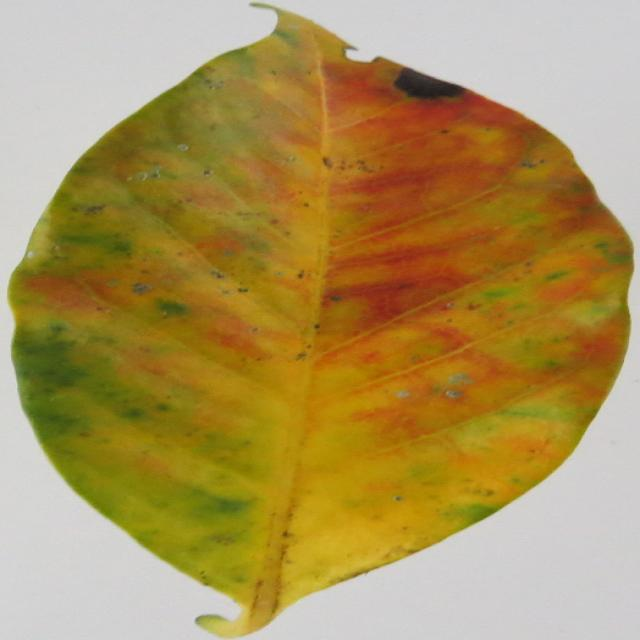DeficienciaNutricional-Fosforo: (11, 9, 629, 638)
